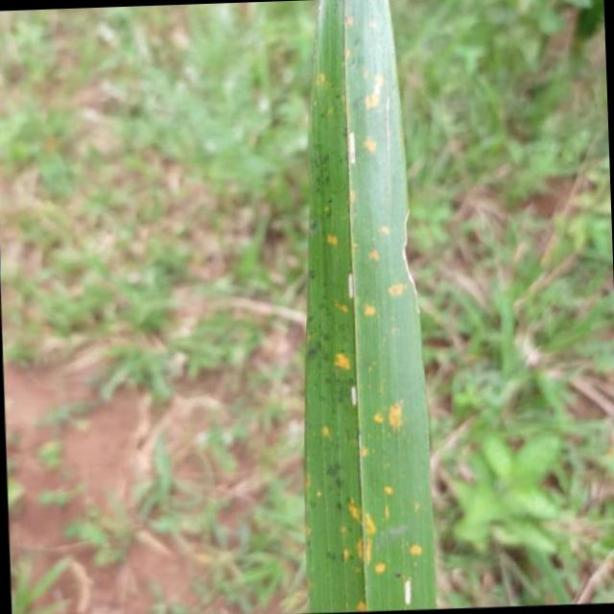Kalium: (301, 0, 443, 614)
